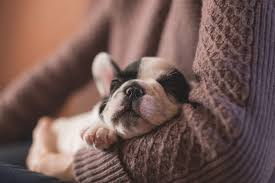dog: (87, 54, 187, 128)
